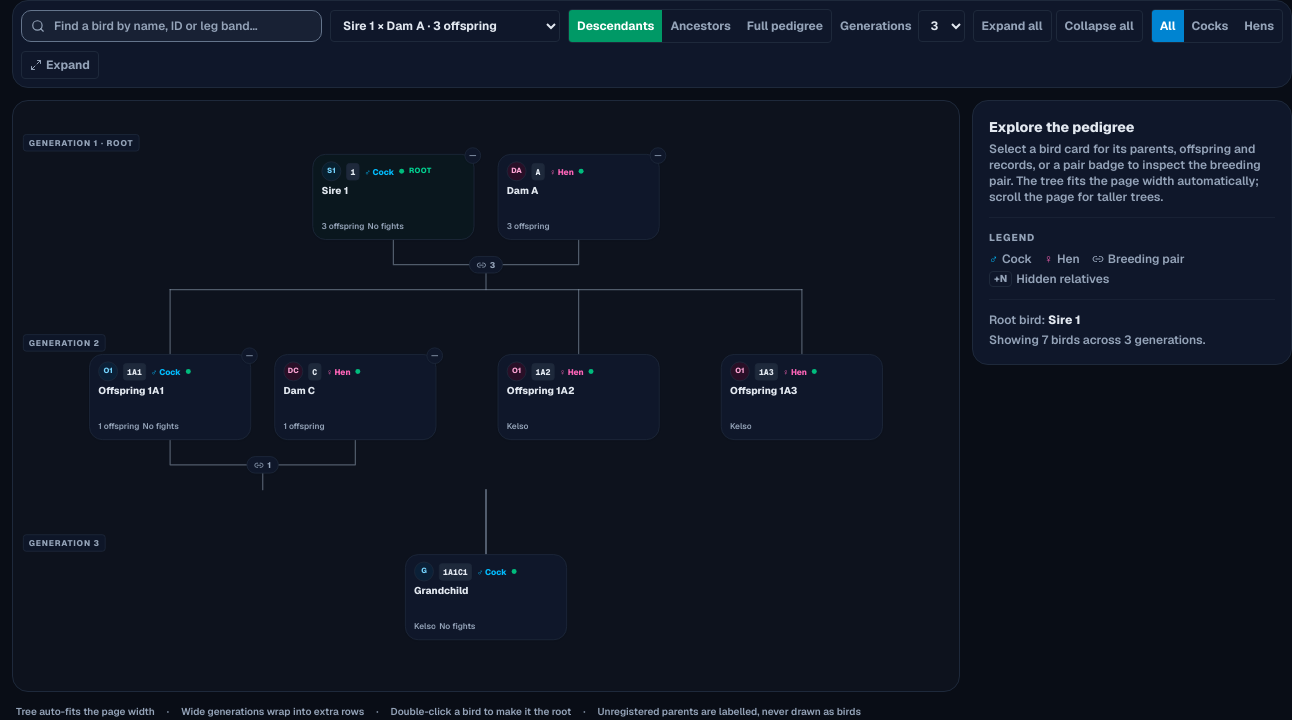
Test case: LineageFlow pedigree canvas › shows pair details with Sire and Dam role boxes and every offspring
This screenshot has width=1292, height=720.
Click the button named "Breeding pair Sire 1 × Dam A, 3 offspring" at (486, 265), box top-left (469, 256), bottom-right (503, 273)
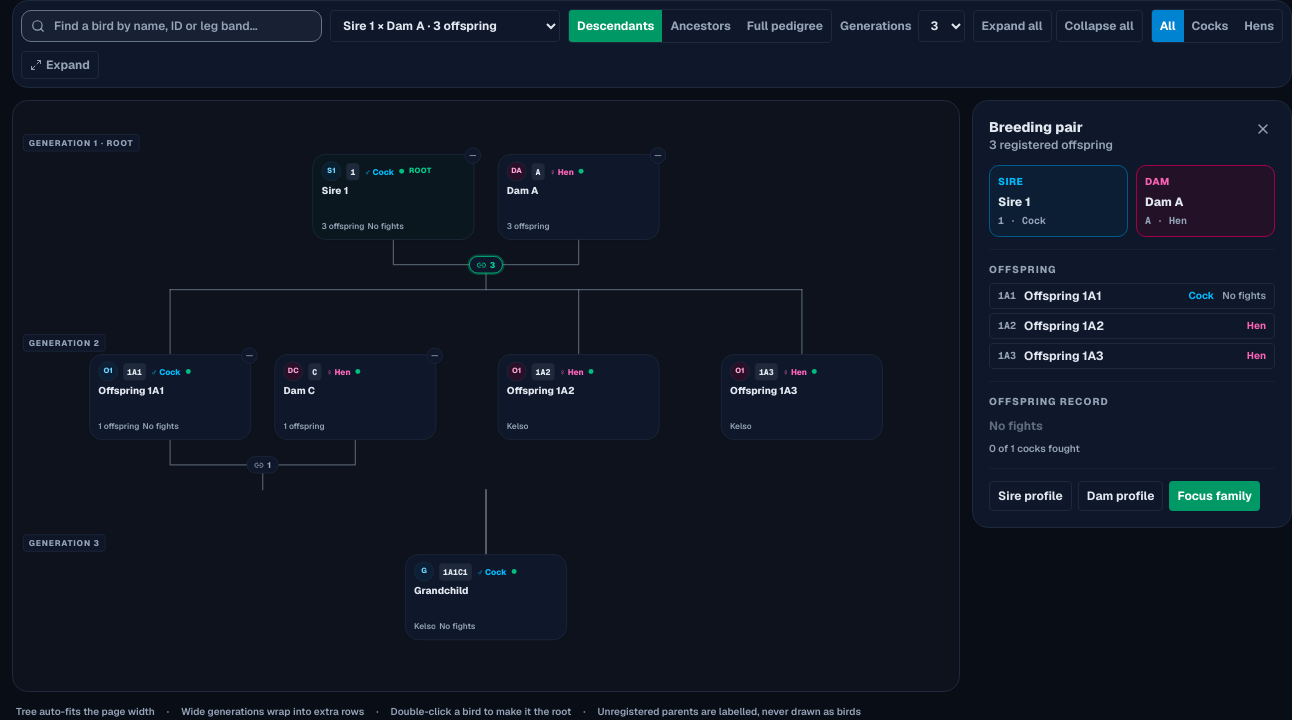
Now the text "Sire" is shown, box top-left (998, 175), bottom-right (1023, 188)
Now the text "Dam" is shown, box top-left (1145, 175), bottom-right (1170, 188)
Now the text "Offspring 1A2" below "registered offspring" is shown, box top-left (1024, 318), bottom-right (1104, 334)
